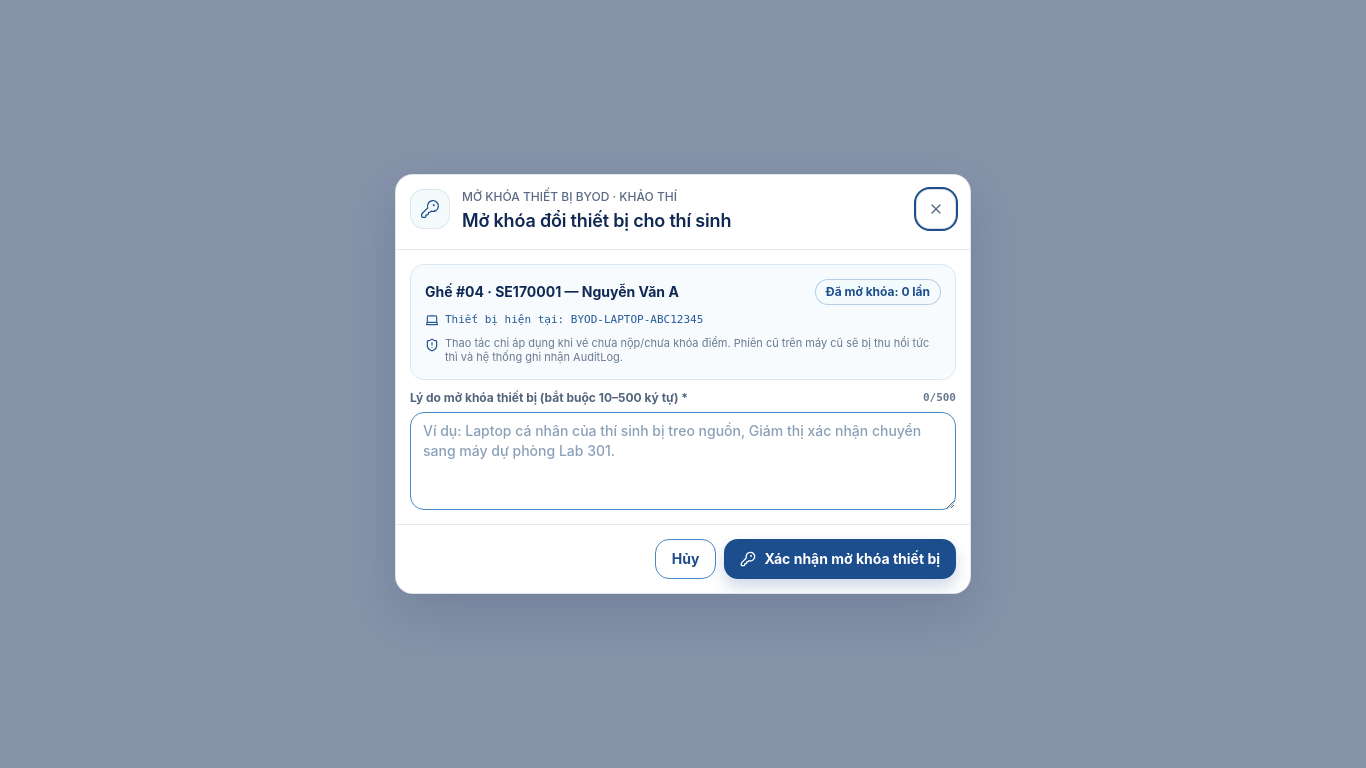
it: UnlockDeviceDialog (EO-only BYOD Device Unlock) › displays RFC 7807 409 Conflict error inline when ticket is already submitted or locked
Replace the text in the text box labelled "Lý do mở khóa thiết bị (bắt buộc 10–500 ký tự) * 0/500" with "Yêu cầu mở khóa khi vé thi đã hoàn tất nộp bài." at (683, 461), box 410,412 -> 956,510
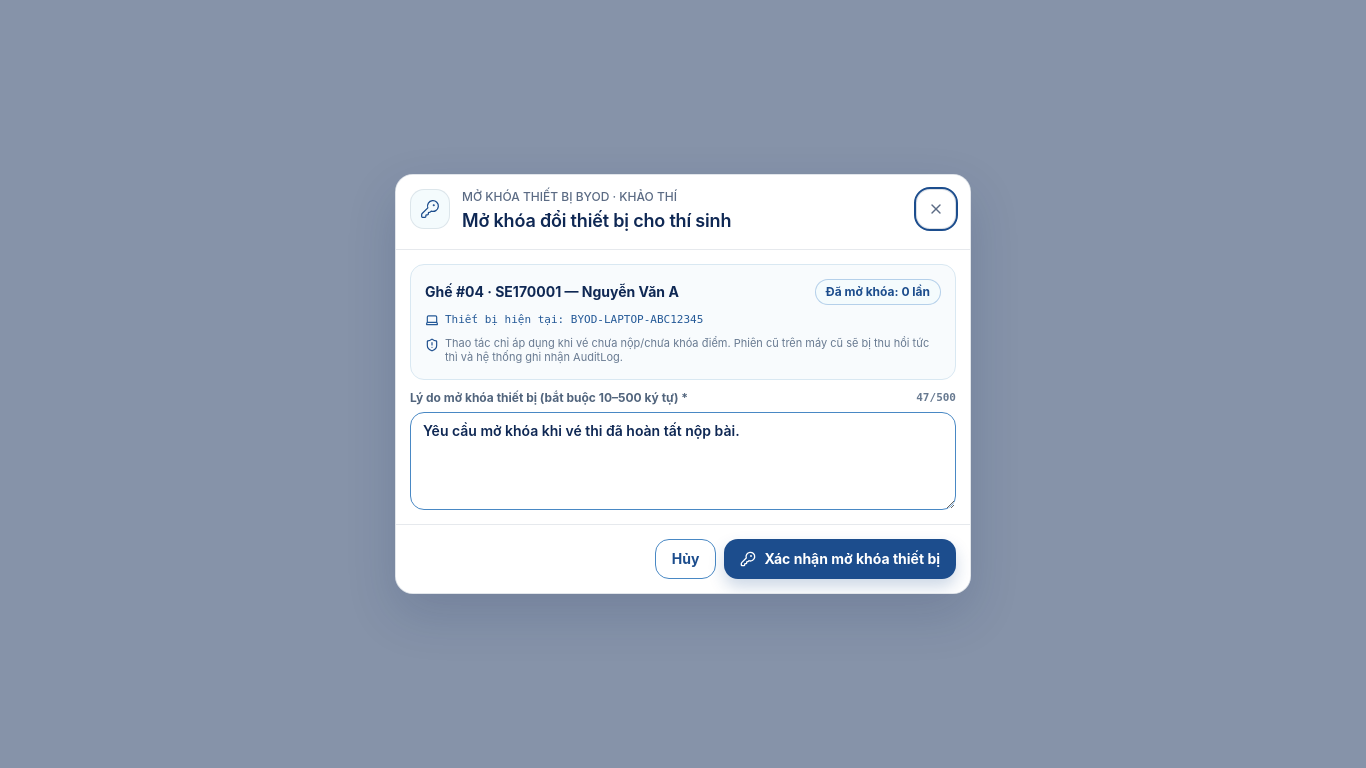
Click the button "Xác nhận mở khóa thiết bị".
click(840, 559)  # box 724,539 -> 956,579
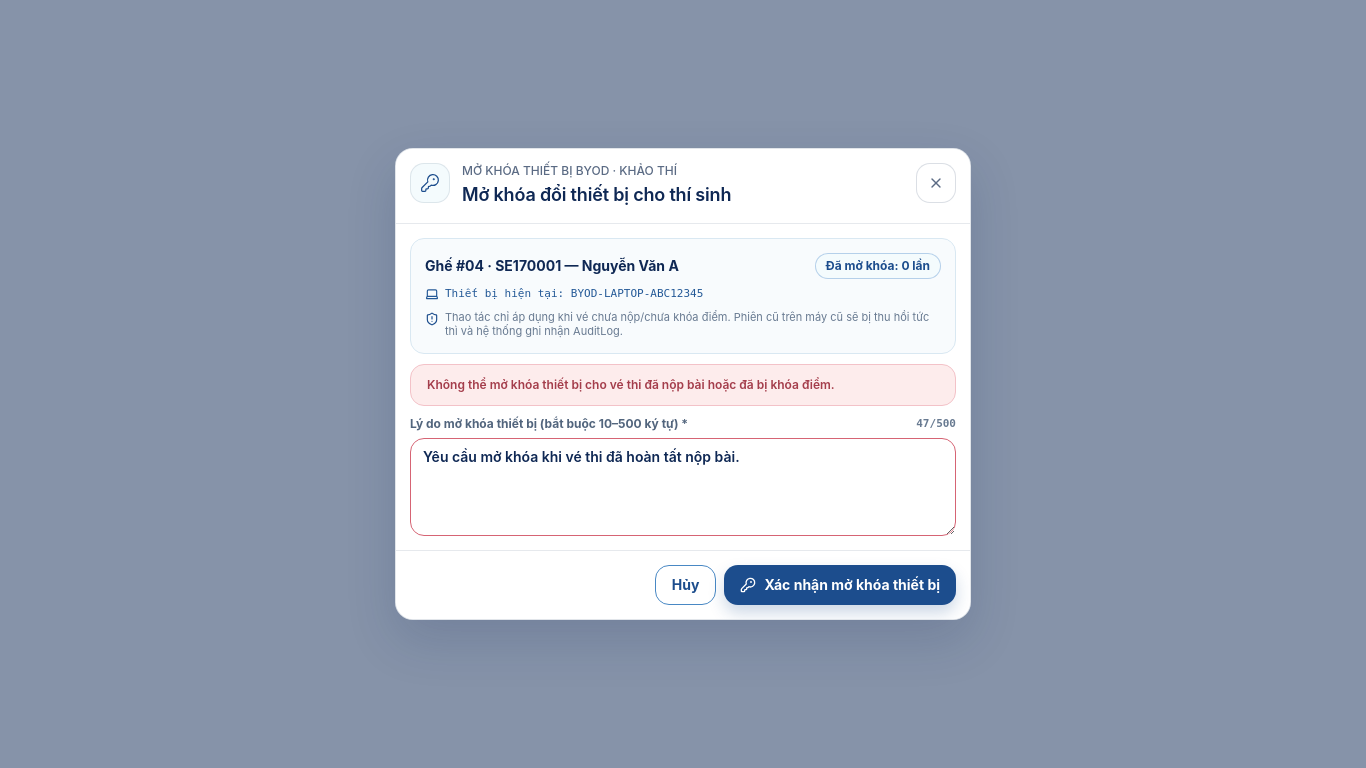
Result: the message reads "Không thể mở khóa thiết bị cho vé thi đã nộp bài hoặc đã bị khóa điểm." at 427,377 -> 835,392
